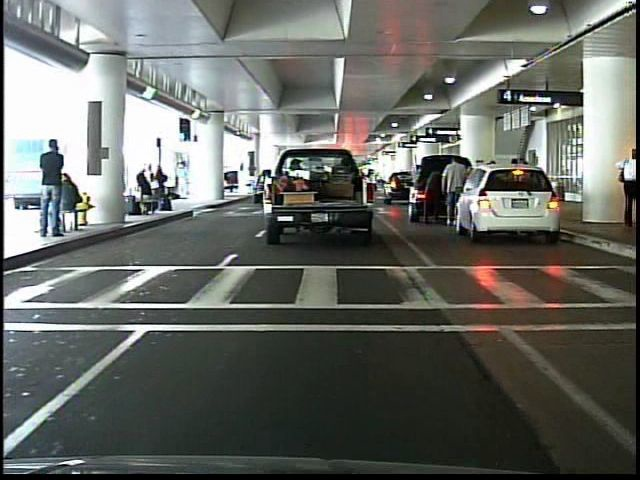person: (37, 136, 73, 242), (440, 153, 469, 230), (407, 160, 425, 207), (175, 159, 192, 202)
